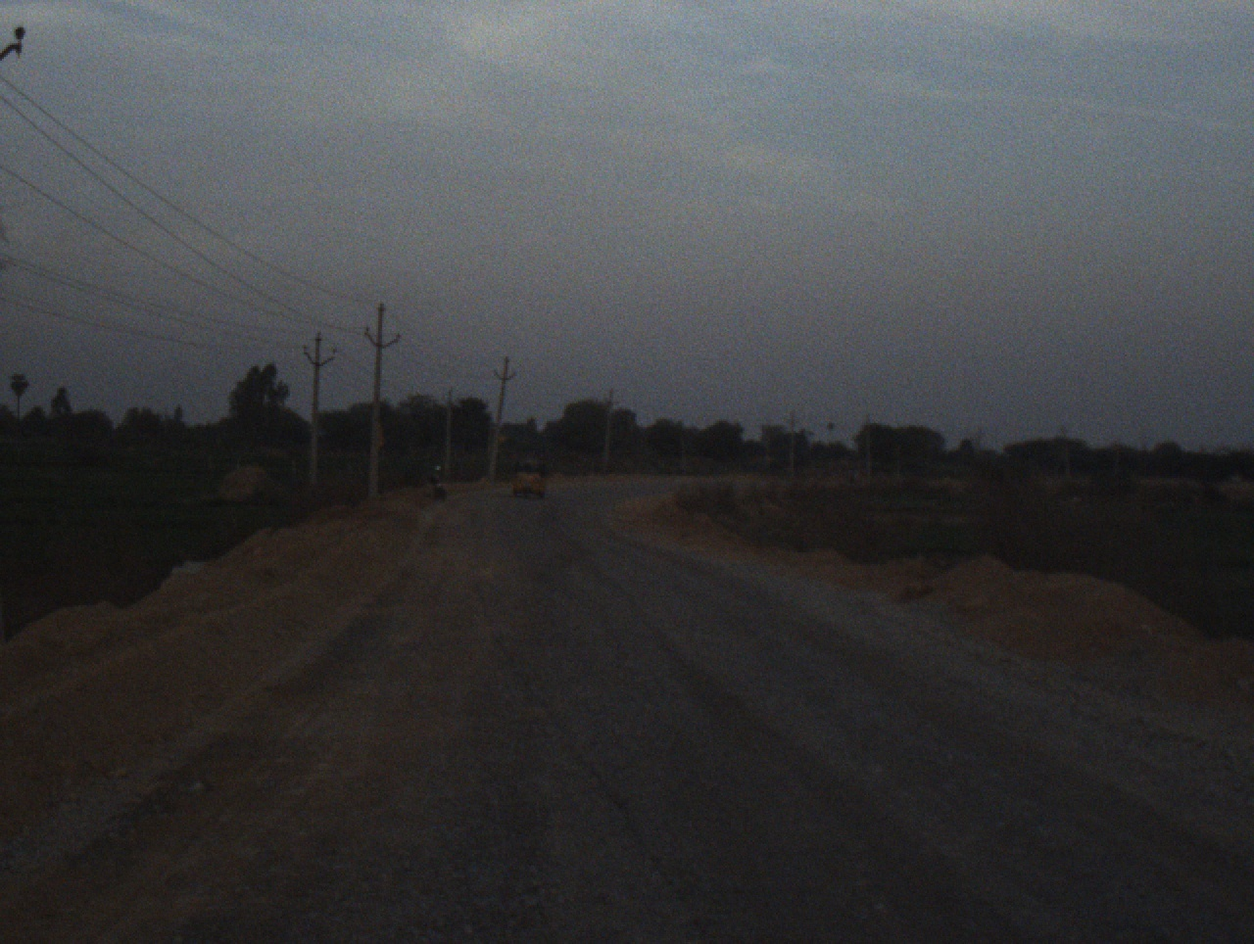autorickshaw: (505, 456, 551, 502)
motorcycle: (422, 463, 446, 502)
